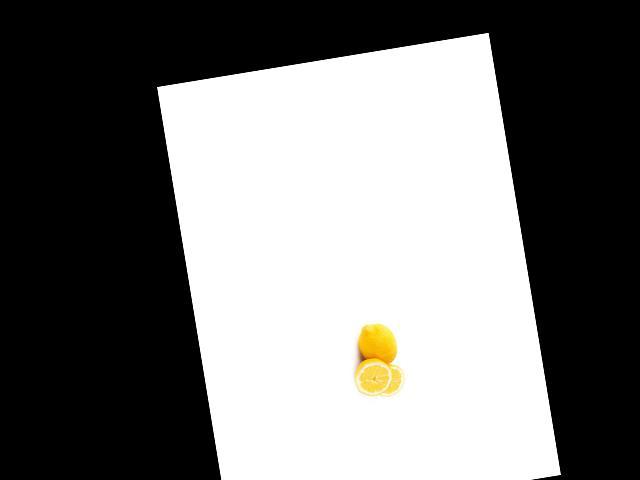lemon: (354, 317, 401, 369)
